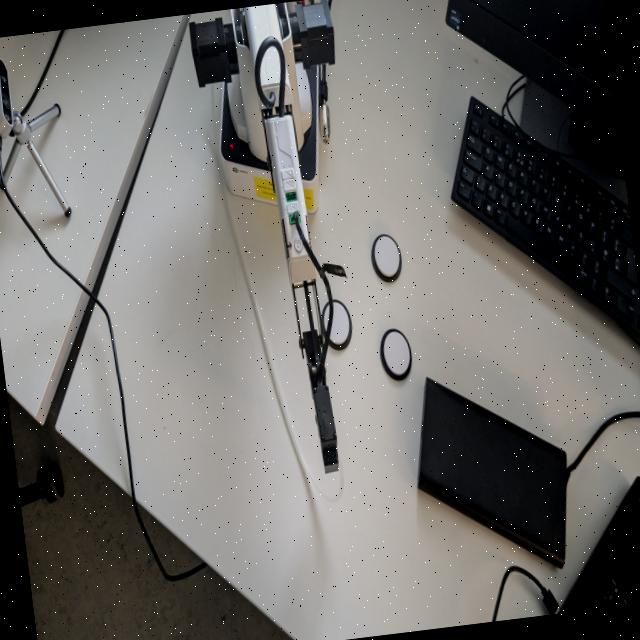Robot-end-effector-HF8z: (308, 377, 344, 476)
